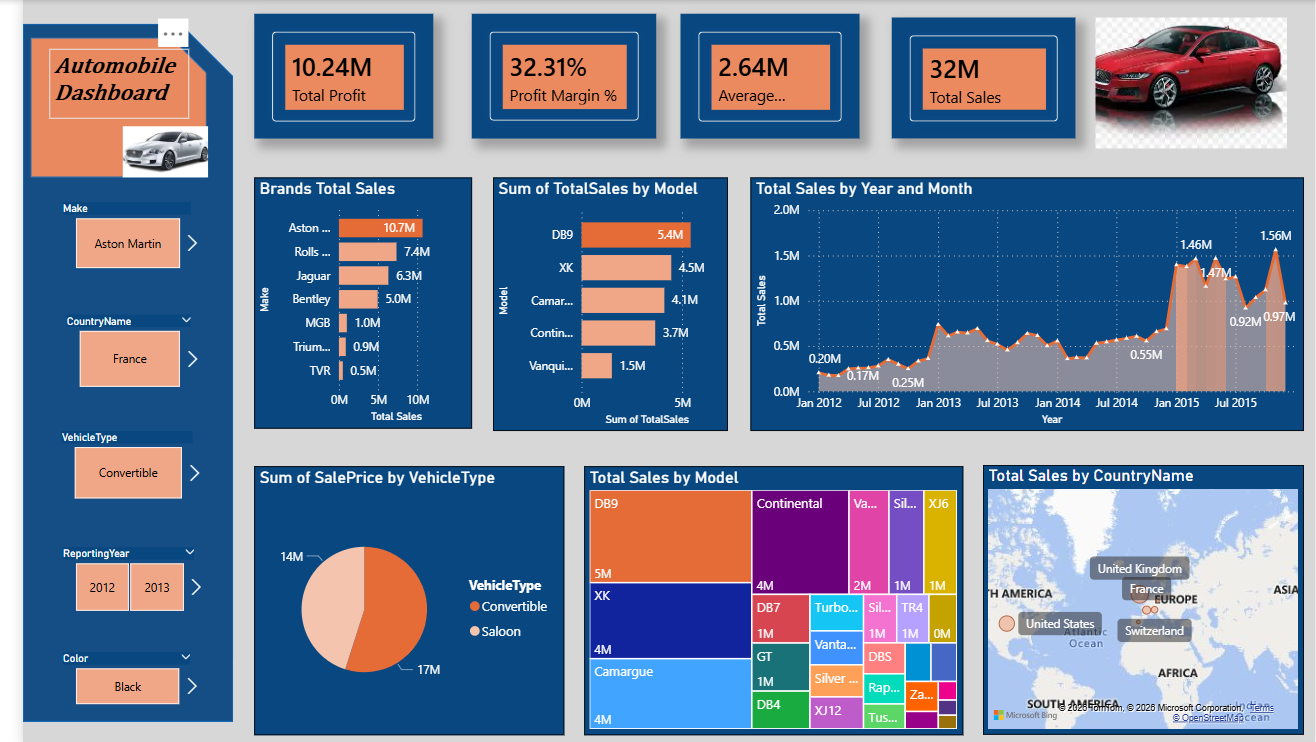

This screenshot's page, from the dashboard's own definition file:
{"tool":"powerbi","page":{"name":"Page 1","canvas":[1334,770],"ordinal":0},"visuals":[{"type":"clusteredBarChart","title":"Brands Total Sales","fields":{"Category":["Automobile _Project_Dashboard_Datasets.Make"],"Y":["Automobile _Project_Dashboard_Datasets.Total Sales"]},"box":[238.7,183.2,224.5,259.3],"z":0},{"type":"cardVisual","fields":{"Data":["Automobile _Project_Dashboard_Datasets.Total Sales"]},"box":[889.5,14.5,179.4,120],"z":1000},{"type":"cardVisual","fields":{"Data":["Automobile _Project_Dashboard_Datasets.Profit Margin %"]},"box":[452,13.3,179.4,120],"z":2000},{"type":"cardVisual","fields":{"Data":["Automobile _Project_Dashboard_Datasets.Average Monthly Sales"]},"box":[666.5,15.8,180.6,120],"z":3000},{"type":"shape","box":[0,0,216.2,758.8],"z":4000},{"type":"lineChart","fields":{"Y":["Automobile _Project_Dashboard_Datasets.Total Sales"],"Category":["Automobile _Project_Dashboard_Datasets.InvoiceDate.Variation.Date Hierarchy.Year","Automobile _Project_Dashboard_Datasets.InvoiceDate.Variation.Date Hierarchy.Month"]},"box":[750.9,183.2,571.6,261.9],"z":5000},{"type":"pieChart","fields":{"Category":["Automobile _Project_Dashboard_Datasets.VehicleType"],"Y":["Automobile _Project_Dashboard_Datasets.Total Sales"]},"box":[238.7,481.3,320,277.4],"z":6000},{"type":"treemap","fields":{"Group":["Automobile _Project_Dashboard_Datasets.Model"],"Values":["Automobile _Project_Dashboard_Datasets.Total Sales"]},"box":[579.3,481.3,390.9,277.4],"z":7000},{"type":"slicer","fields":{"Values":["Automobile _Project_Dashboard_Datasets.Make"]},"box":[28.4,203.9,157.4,80],"z":8000},{"type":"slicer","fields":{"Values":["Automobile _Project_Dashboard_Datasets.ReportingYear"]},"box":[28.8,560,161.2,77.5],"z":9000},{"type":"slicer","fields":{"Values":["Automobile _Project_Dashboard_Datasets.VehicleType"]},"box":[27.5,439.4,160.9,81.1],"z":10000},{"type":"slicer","fields":{"Values":["Automobile _Project_Dashboard_Datasets.CountryName"]},"box":[32.5,320,153.8,86.2],"z":11000},{"type":"slicer","fields":{"Values":["Automobile _Project_Dashboard_Datasets.Color"]},"box":[28.8,668.3,156.9,65.4],"z":12000},{"type":"map","title":"Sales By Country","fields":{"Category":["Automobile _Project_Dashboard_Datasets.CountryName"],"Size":["Automobile _Project_Dashboard_Datasets.Total Sales"]},"box":[990.9,480,331.6,278.7],"z":13000},{"type":"barChart","title":"Top 5 Models by sales","fields":{"Category":["Top 5 Models.Model"],"Y":["Sum(Top 5 Models.TotalSales)"]},"box":[485.1,183.2,242.6,261.9],"z":14000},{"type":"image","box":[1107,18.1,197.4,135.5],"z":15000},{"type":"shape","box":[7.7,38.7,181.9,144.5],"z":16000},{"type":"textbox","box":[27.1,50.3,144.5,72.3],"z":17000},{"type":"cardVisual","fields":{"Data":["Automobile _Project_Dashboard_Datasets.Total Profit"]},"box":[238.7,14.2,180,120],"z":18000},{"type":"image","box":[77.4,130.3,139.3,52.9],"z":19000}]}

Visuals, with their boxes in screenshot pixels (x1, y1, x2, y2), scaled from the page's 1334x770 canvas onto the 1316x742 screenshot:
"Brands Total Sales" clusteredBarChart: <box>235,177,457,426</box>
cardVisual - Automobile _Project_Dashboard_Datasets.Total Sales: <box>877,14,1054,130</box>
cardVisual - Automobile _Project_Dashboard_Datasets.Profit Margin %: <box>446,13,623,128</box>
cardVisual - Automobile _Project_Dashboard_Datasets.Average Monthly Sales: <box>658,15,836,131</box>
shape: <box>0,0,213,731</box>
lineChart - Automobile _Project_Dashboard_Datasets.Total Sales x Automobile _Project_Dashboard_Datasets.InvoiceDate.Variation.Date Hierarchy.Year: <box>741,177,1305,429</box>
pieChart - Automobile _Project_Dashboard_Datasets.VehicleType x Automobile _Project_Dashboard_Datasets.Total Sales: <box>235,464,551,731</box>
treemap - Automobile _Project_Dashboard_Datasets.Model x Automobile _Project_Dashboard_Datasets.Total Sales: <box>571,464,957,731</box>
slicer - Automobile _Project_Dashboard_Datasets.Make: <box>28,196,183,274</box>
slicer - Automobile _Project_Dashboard_Datasets.ReportingYear: <box>28,540,187,614</box>
slicer - Automobile _Project_Dashboard_Datasets.VehicleType: <box>27,423,186,502</box>
slicer - Automobile _Project_Dashboard_Datasets.CountryName: <box>32,308,184,391</box>
slicer - Automobile _Project_Dashboard_Datasets.Color: <box>28,644,183,707</box>
"Sales By Country" map: <box>978,463,1305,731</box>
"Top 5 Models by sales" barChart: <box>479,177,718,429</box>
image: <box>1092,17,1287,148</box>
shape: <box>8,37,187,177</box>
textbox: <box>27,48,169,118</box>
cardVisual - Automobile _Project_Dashboard_Datasets.Total Profit: <box>235,14,413,129</box>
image: <box>76,126,214,177</box>
